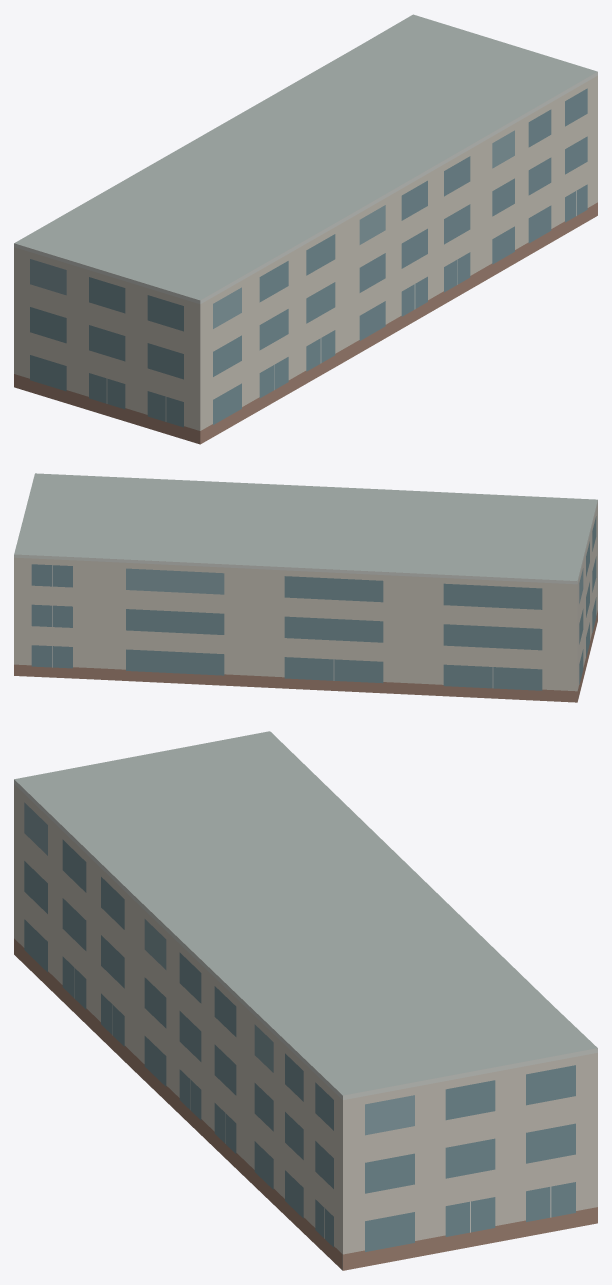
File: survey-upis-32895790.glb
3 renders of one model, top to bottom at view 1: azimuth 30°, elevation 25°; view 2: azimuth 150°, elevation 25°; view 3: azimuth 270°, elevation 25°, orthographic. The views are drawn at different scales.
Parts seen in each view (by area): view 1: survey-upis-32895790.tmp; view 2: survey-upis-32895790.tmp; view 3: survey-upis-32895790.tmp.
Part boxes in pixels (x1,y1,x2,y2): survey-upis-32895790.tmp: (14,14,597,444); survey-upis-32895790.tmp: (14,473,597,702); survey-upis-32895790.tmp: (14,731,597,1270).
Bounding box in the file's own units: 40.82 × 9.15 × 27.63.
